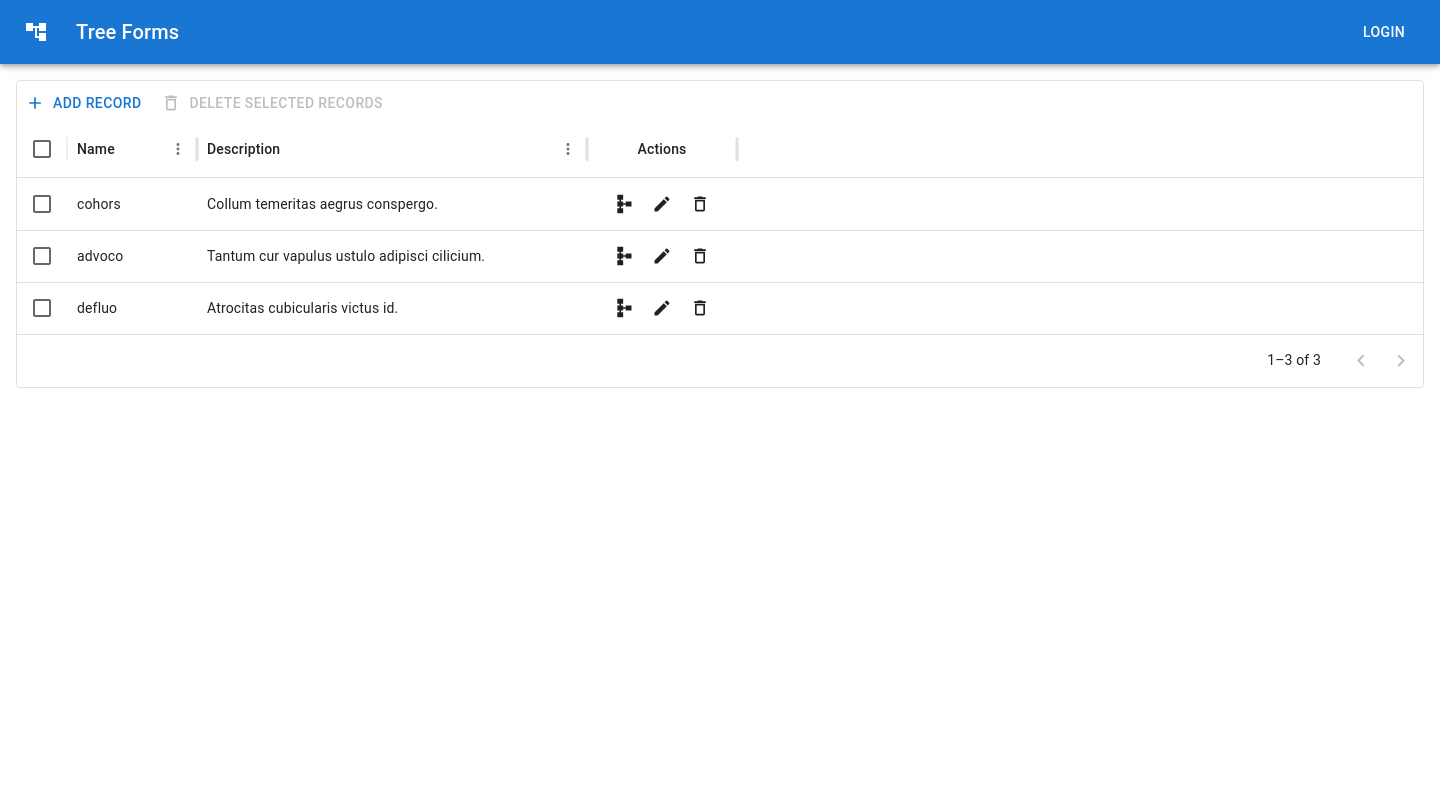
delete form › should display error snackbar when failing to delete a form
Click the 1st menu item named "Delete".
click(700, 204)  # box [685, 189, 715, 219]
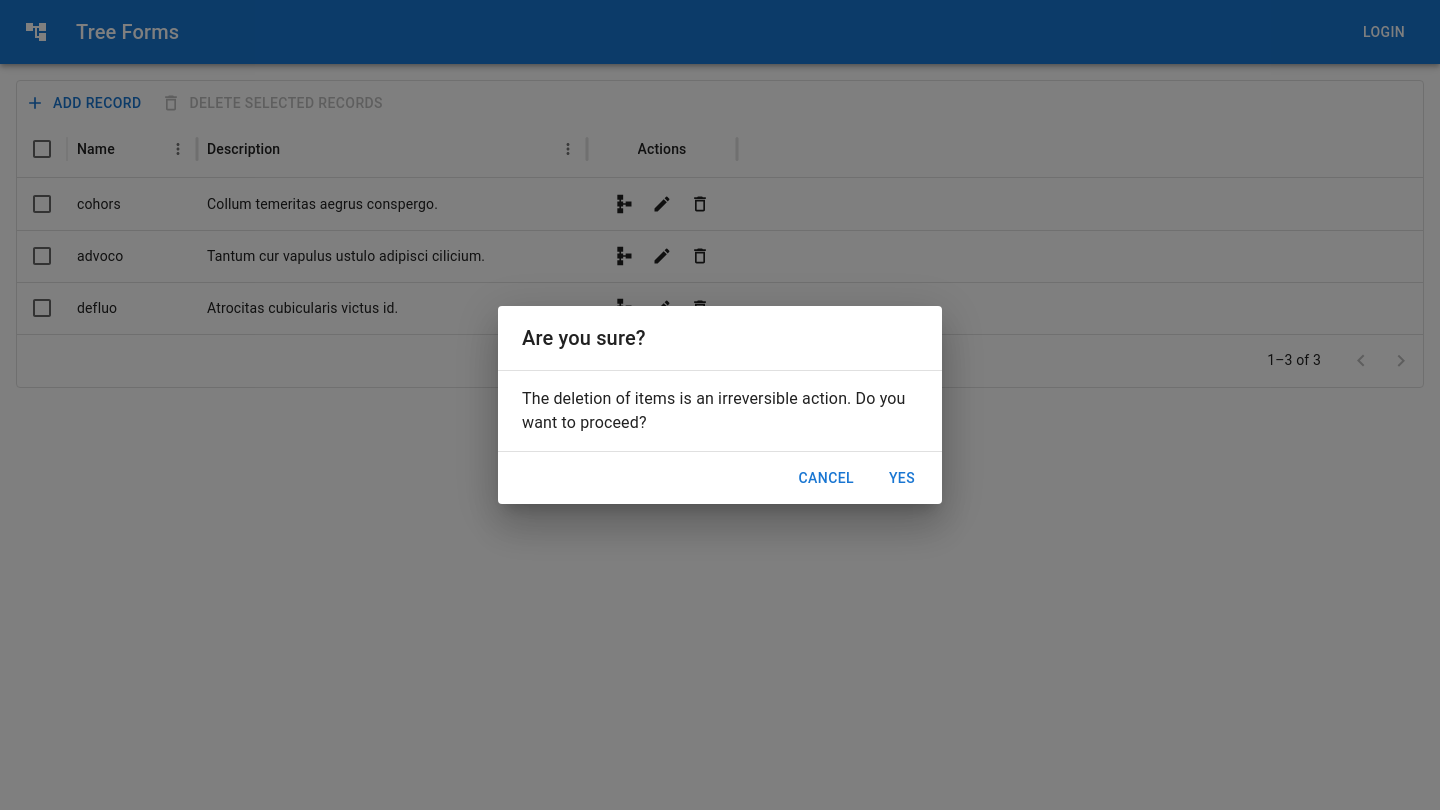
Click the button with test id "confirm-button".
click(902, 478)  # box [870, 460, 934, 496]
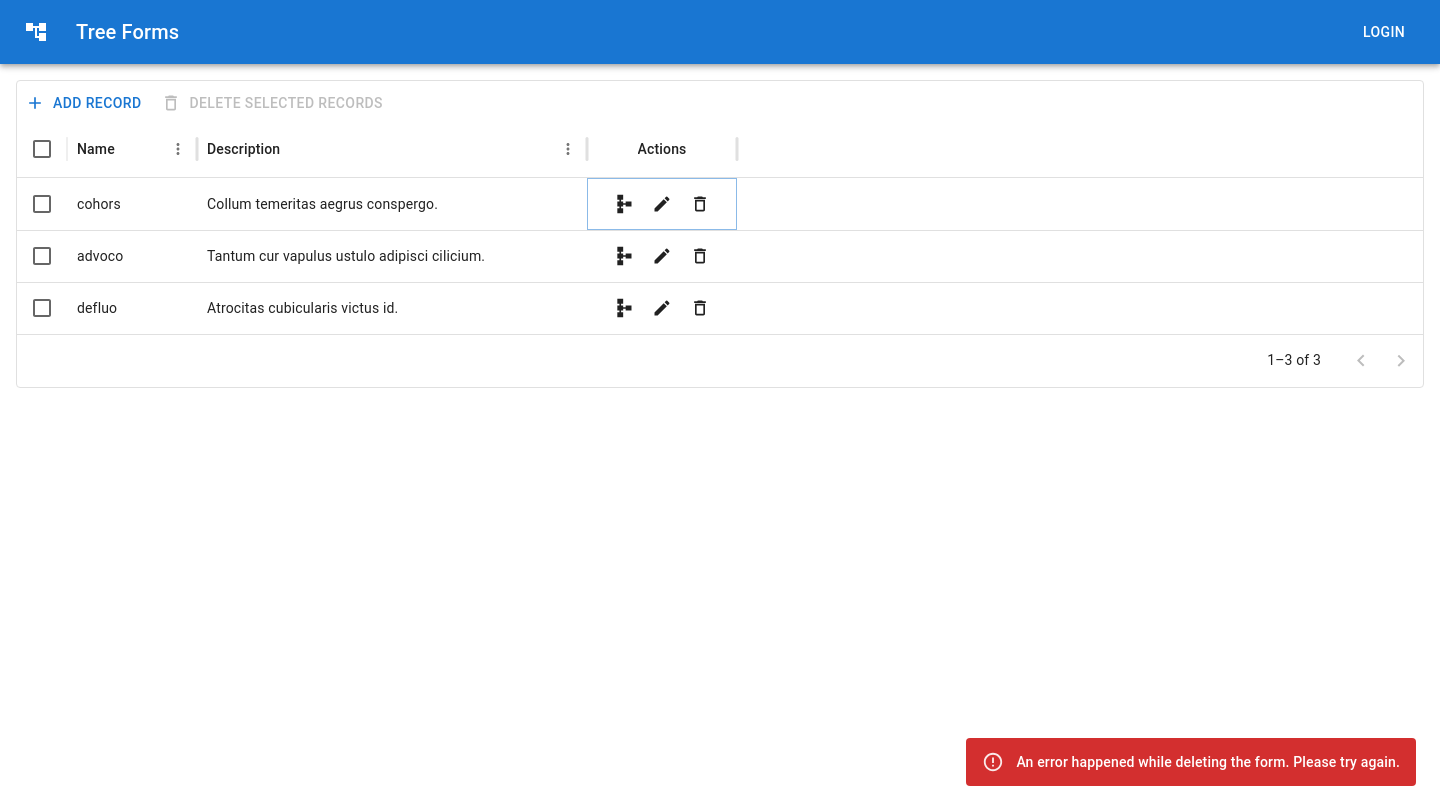
Expected: the element with test id "snackbar" is shown, [966, 738, 1416, 786]
Expected: the element with test id "snackbar" reads "An error happened while deleting the form. Please try again.", [1016, 754, 1400, 770]
